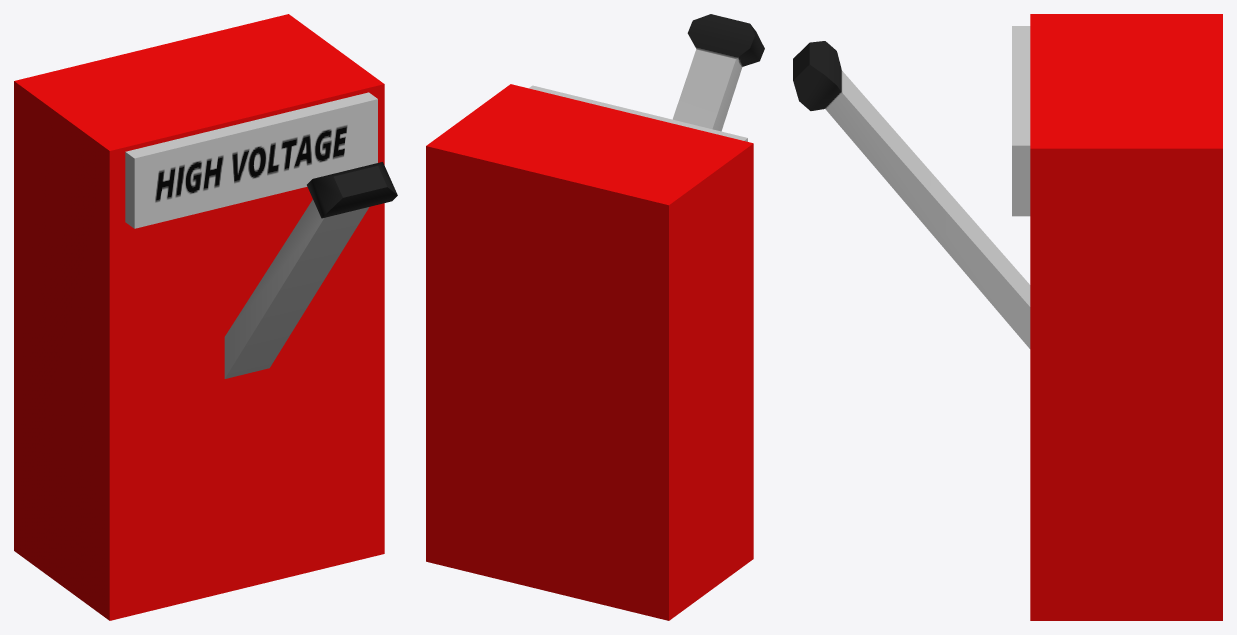
File: Switch.fbx
3 renders of one model, left to right at view 1: azimuth 30°, elevation 25°; view 2: azimuth 150°, elevation 25°; view 3: azimuth 270°, elevation 25°, orthographic. The views are drawn at different scales.
Parts seen in each view (by area): view 1: pCube89; view 2: pCube89; view 3: pCube89.
Boxes of the visible parts, bbox=[...] form: pCube89: bbox=[14, 14, 397, 620]; pCube89: bbox=[426, 14, 764, 620]; pCube89: bbox=[793, 14, 1222, 620].
Size of the model in its own units: 0.2898 by 0.5011 by 0.3908.
